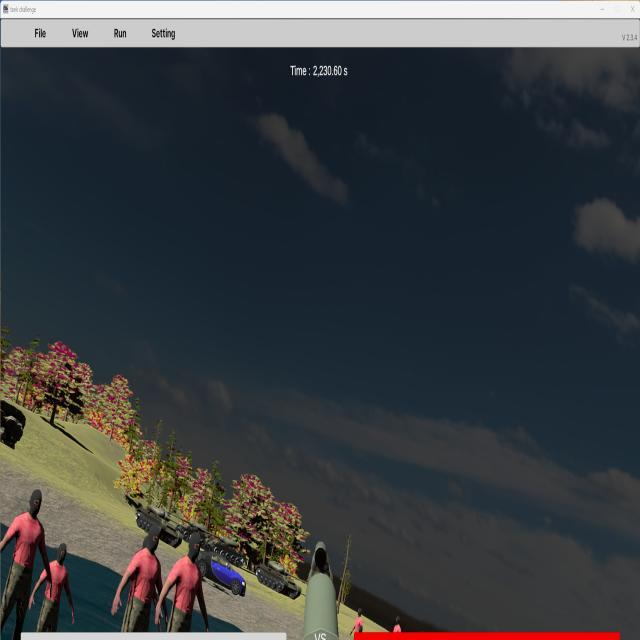Human: (0, 488, 52, 639), (112, 522, 165, 635), (156, 527, 209, 635), (27, 543, 75, 633), (382, 615, 407, 640)
Tank: (136, 502, 189, 549), (255, 559, 307, 600), (0, 396, 27, 449)
car: (195, 549, 247, 598)
